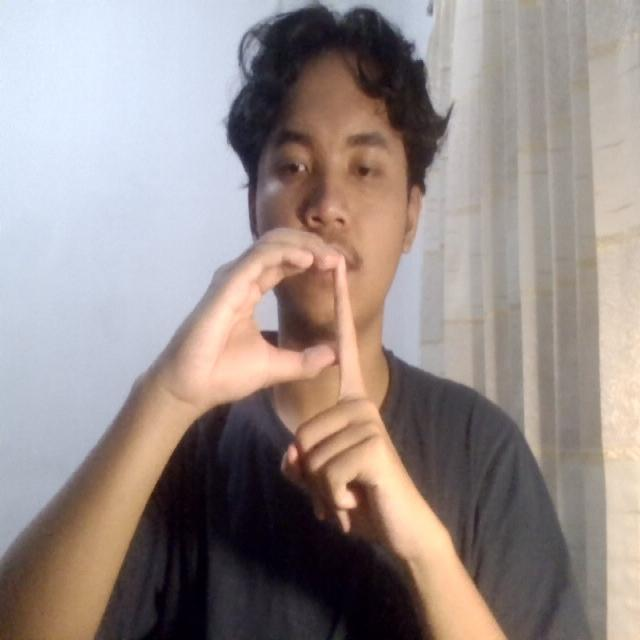D: (174, 215, 430, 569)
